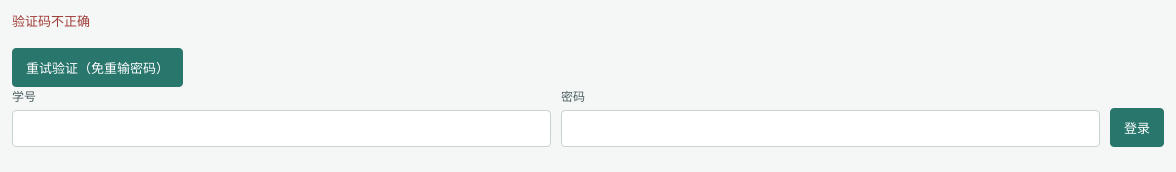
Test: CampusConnection state machine › offers the in-place retry when credentials are still held
Click the button "重试验证（免重输密码）". click: (98, 67)
box: 12,48 -> 183,86
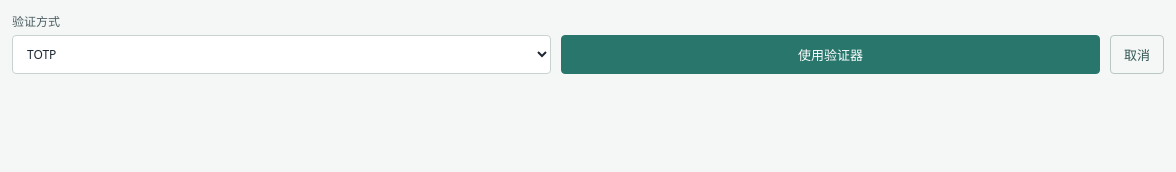
Result: the button "使用验证器" is shown at 561,35 -> 1100,74
